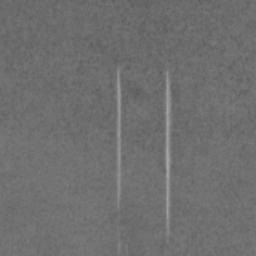Bright scratch: (166, 72, 171, 233), (116, 69, 121, 203)
